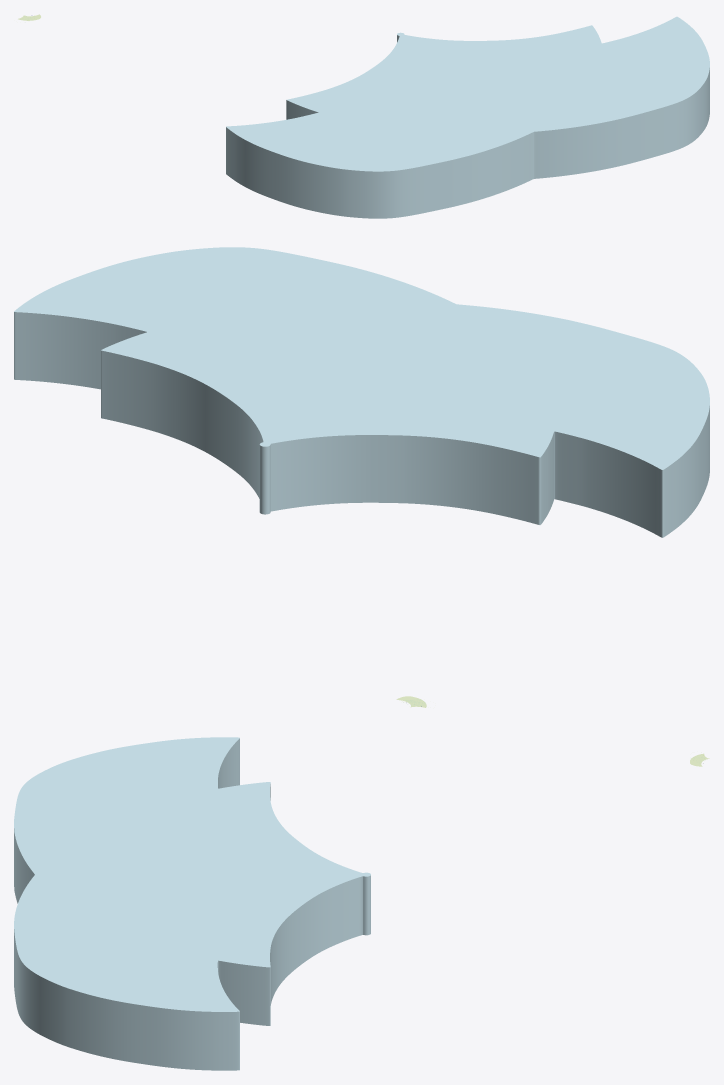
Rendered from panto-area.fbx.
3 views of the same model, one above another, from view 1: azimuth 30°, elevation 25°; view 2: azimuth 150°, elevation 25°; view 3: azimuth 270°, elevation 25° (orthographic). The views are drawn at different scales.
Visible parts, largest first — view 1: path88; view 2: path88; view 3: path88.
Boxes of the visible parts, x1=… form: path88: x1=226, y1=16, x2=709, y2=218; path88: x1=14, y1=247, x2=709, y2=537; path88: x1=14, y1=737, x2=370, y2=1070.
Bounding box in the file's own units: 377 × 35.54 × 382.
